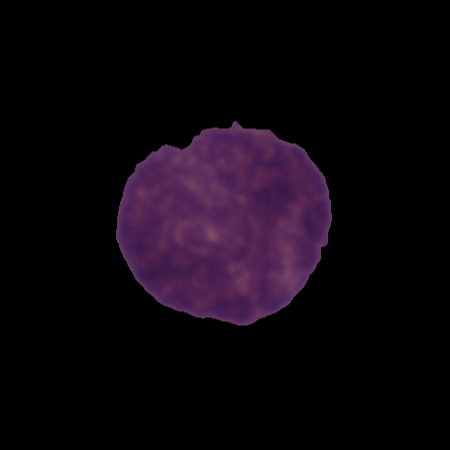HEM: (113, 117, 336, 328)
